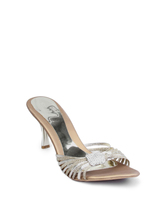shoes: (17, 89, 145, 185)
